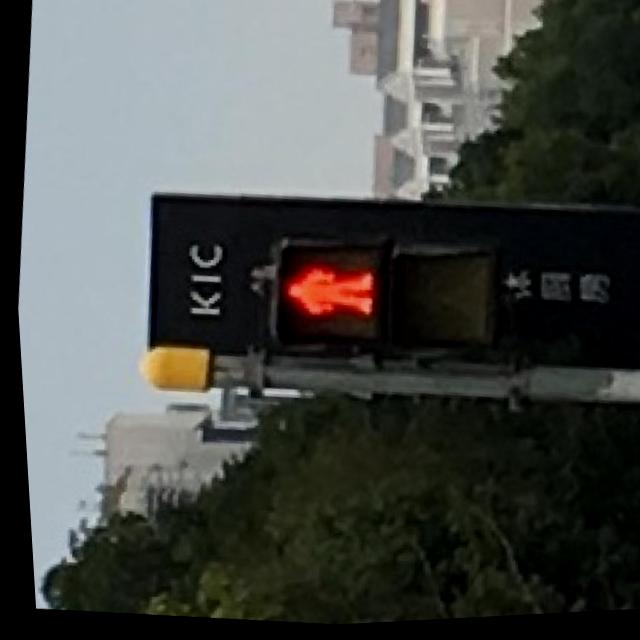red_light: (266, 244, 378, 349)
